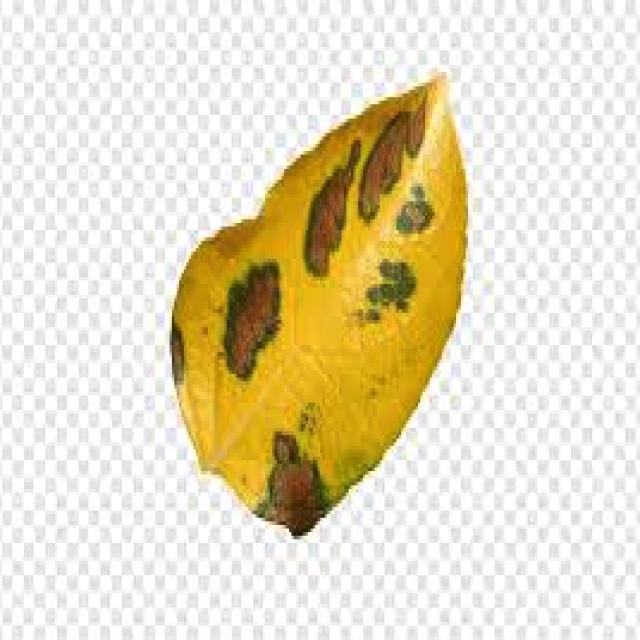leaf: (169, 70, 469, 538)
